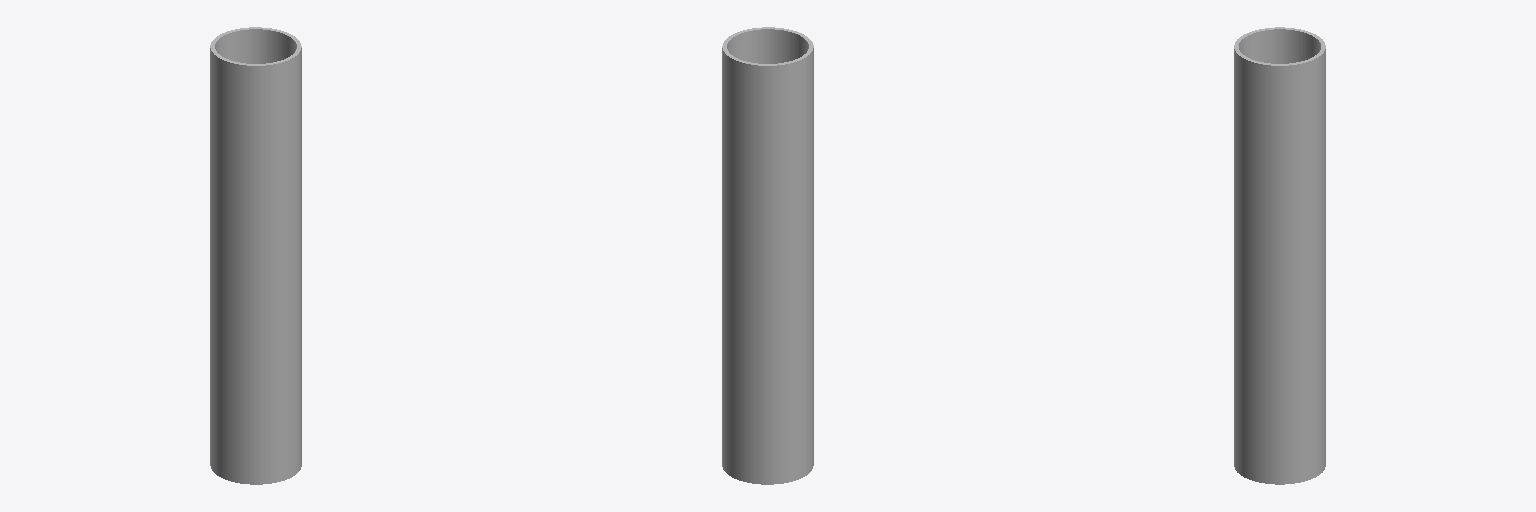
Rendered from cilindroAlto.obj.
3 renders of one model, left to right at view 1: azimuth 30°, elevation 25°; view 2: azimuth 150°, elevation 25°; view 3: azimuth 270°, elevation 25°, orthographic.
Visible parts, largest first — view 1: Cilindro.001; view 2: Cilindro.001; view 3: Cilindro.001.
Part boxes in pixels (x1,y1,x2,y2): Cilindro.001: (210,27,301,484); Cilindro.001: (722,27,813,484); Cilindro.001: (1234,27,1325,484).
Size of the model in its own units: 0.0219 by 0.1113 by 0.0221.